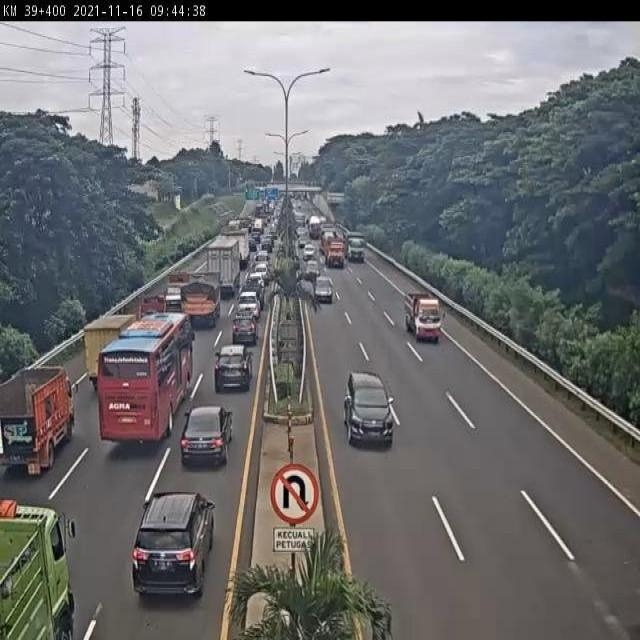big bus: (100, 316, 198, 448)
car: (132, 489, 215, 595), (343, 370, 394, 442), (182, 407, 233, 468), (213, 348, 252, 396), (232, 316, 255, 347), (237, 291, 259, 321), (313, 275, 334, 304), (242, 284, 265, 307), (247, 270, 266, 290)
small truck: (83, 315, 135, 384), (406, 292, 441, 345), (162, 273, 192, 312), (133, 293, 163, 331)
truck-l-: (206, 241, 241, 296)
truck-m-: (0, 368, 80, 475), (179, 276, 220, 329)
